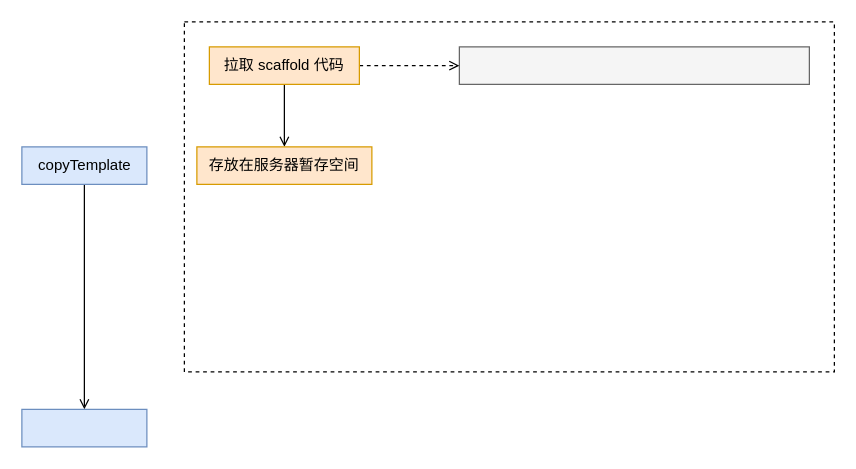
Some shapes in this 856 by 469 pixel diagram are drawn without their labels. Each missing label, with the centre of its shape:
"generateCode" goes at (84,427).
"npm pack @swift-toolkit/scaffold --strict-ssl=false" goes at (633,65).
